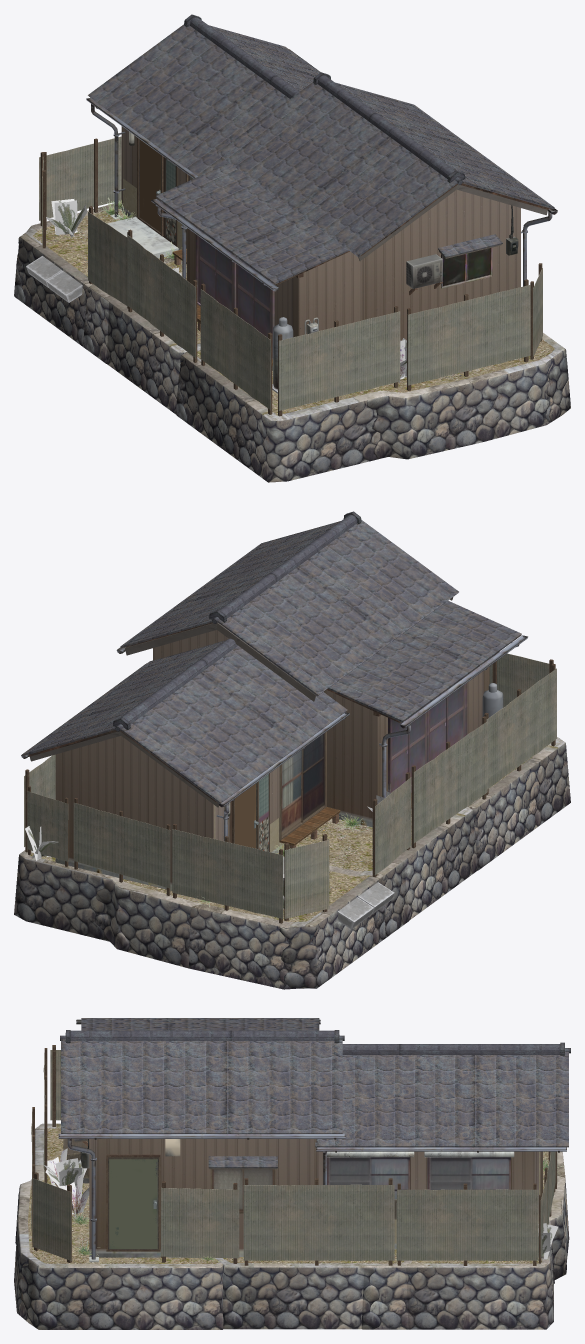
File: houseset06.fbx
3 renders of one model, top to bottom at view 1: azimuth 30°, elevation 25°; view 2: azimuth 150°, elevation 25°; view 3: azimuth 270°, elevation 25°, orthographic.
Visible parts, largest first — view 1: houseset06; view 2: houseset06; view 3: houseset06.
Boxes of the visible parts, x1,y1,x2,y2 form: houseset06: [14, 14, 570, 482]; houseset06: [14, 511, 570, 989]; houseset06: [14, 1018, 570, 1329].
Bounding box in the file's own units: 733 × 1110 × 553.
15 materials, 15 textured.
